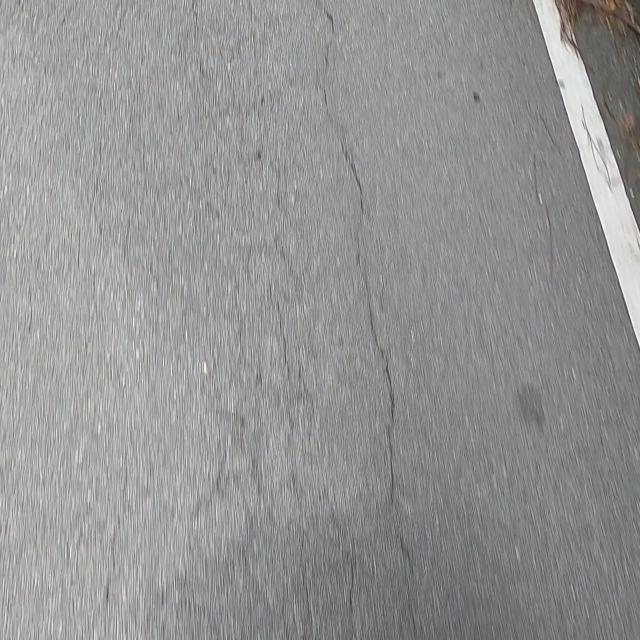Retak-Memanjang: (319, 0, 416, 571)
